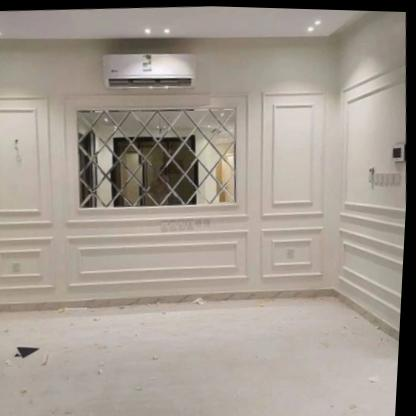Futec frame: (51, 76, 266, 304), (337, 51, 407, 348), (247, 79, 341, 287), (0, 73, 68, 310)
